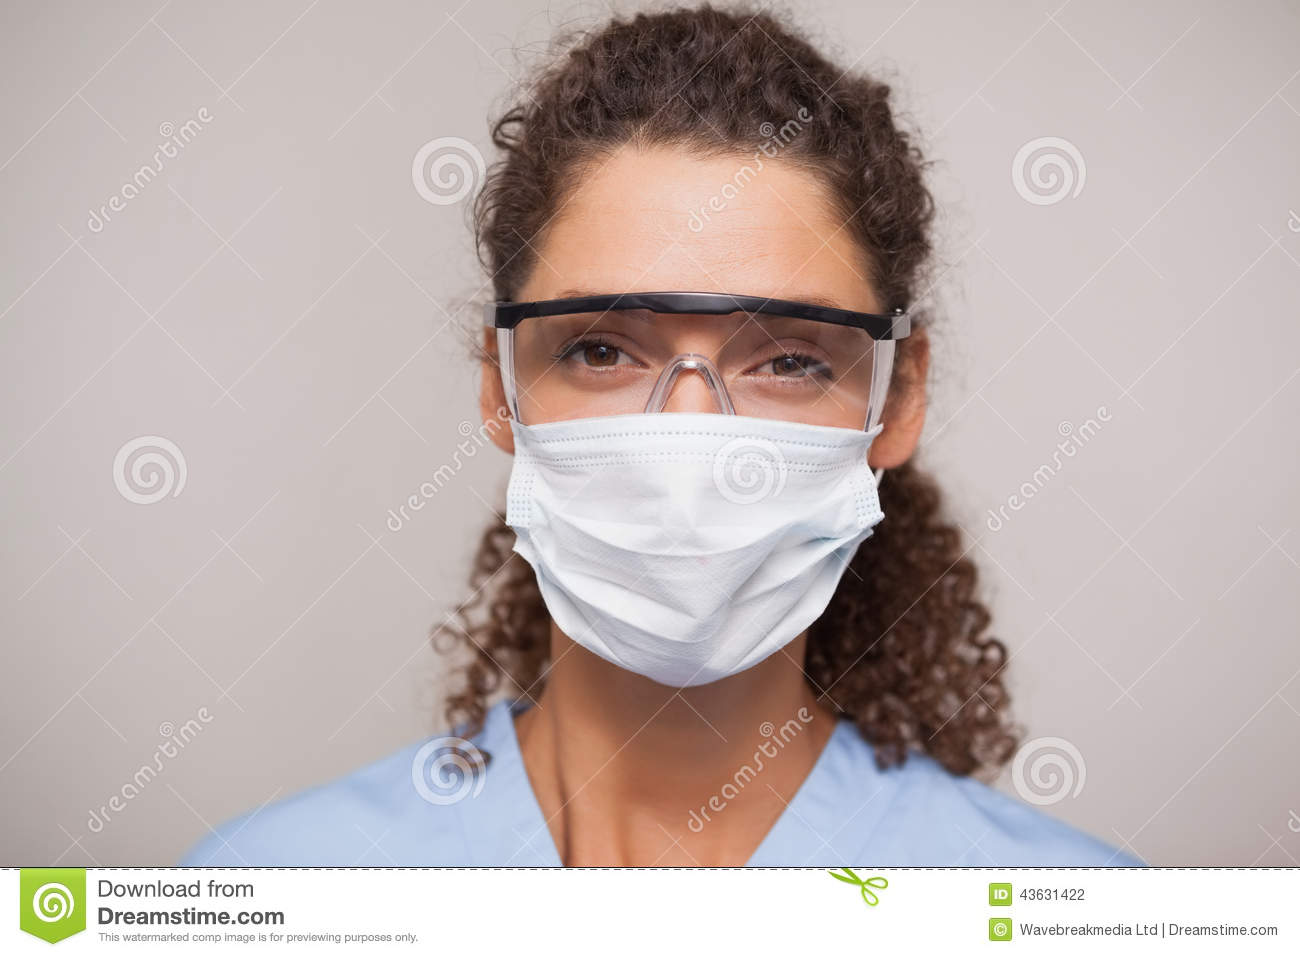mask: (495, 411, 891, 720)
